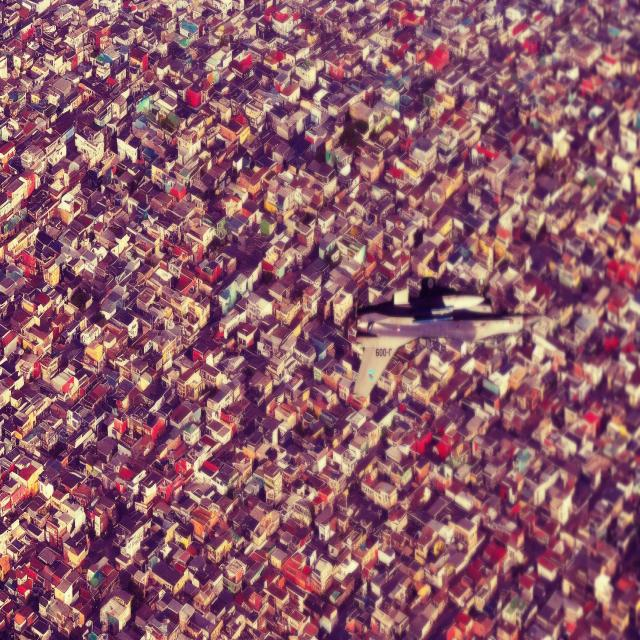airplane: (351, 285, 550, 404)
